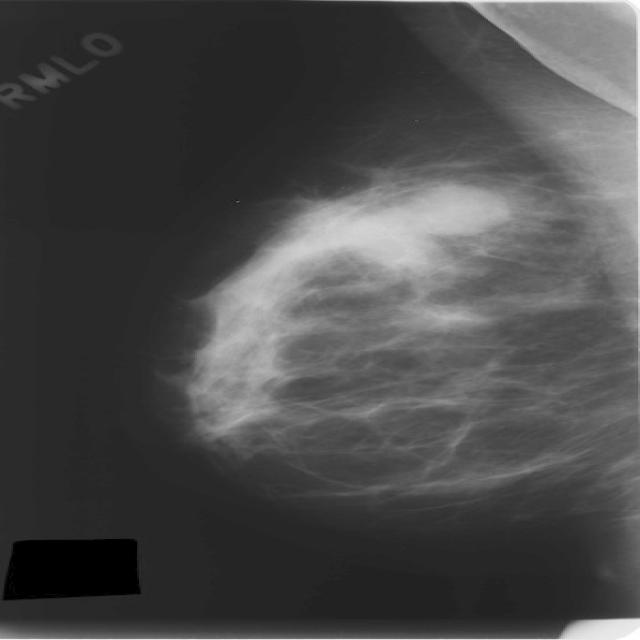tumour: (344, 183, 508, 262)
